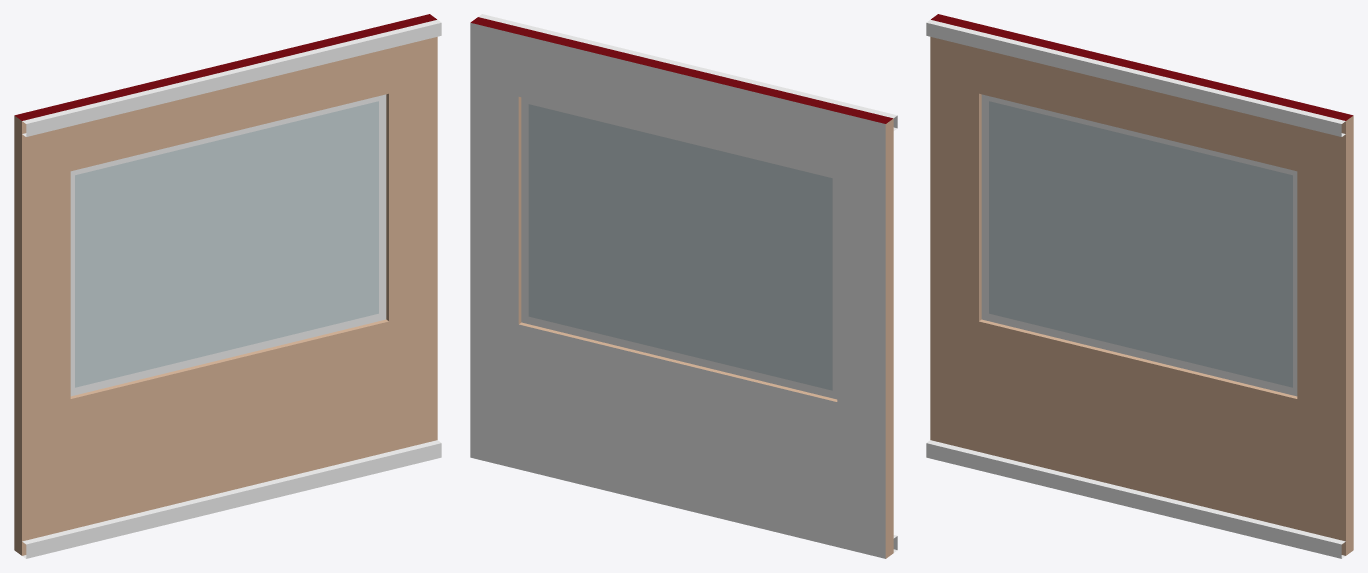
The model's file is Wall01.fbx.
3 renders of one model, left to right at view 1: azimuth 30°, elevation 25°; view 2: azimuth 150°, elevation 25°; view 3: azimuth 330°, elevation 25°, orthographic.
Visible parts, largest first — view 1: Cube.013; view 2: Cube.013; view 3: Cube.013.
Boxes of the visible parts, bbox=[...] form: Cube.013: bbox=[14, 14, 441, 558]; Cube.013: bbox=[470, 14, 897, 558]; Cube.013: bbox=[926, 14, 1353, 558].
Bounding box in the file's own units: 4 × 4 × 0.1986.
